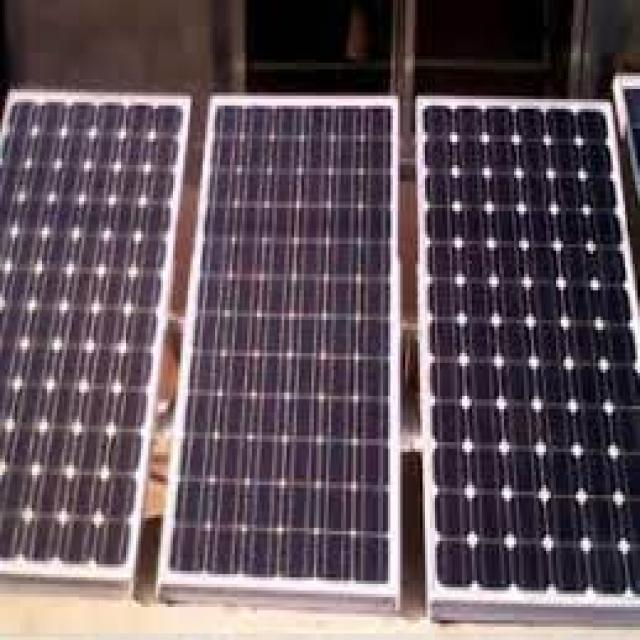no faulty: (424, 110, 634, 608), (199, 104, 383, 606), (0, 102, 162, 579)
